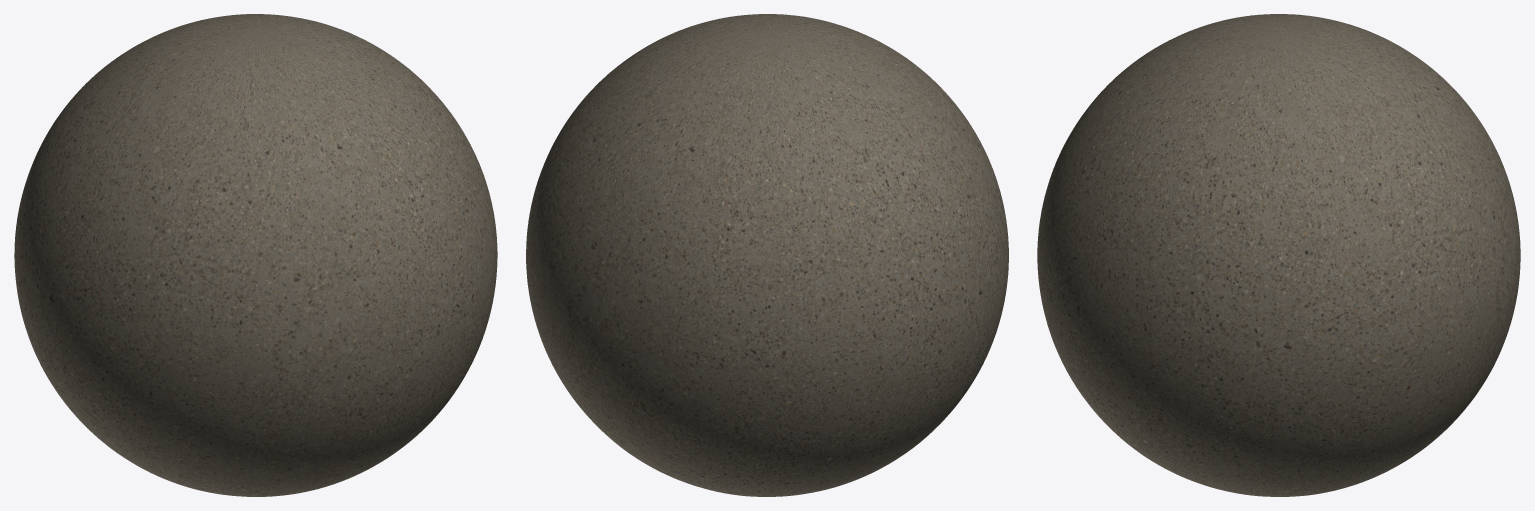
Rendered from granular_concrete_1k.gltf.
3 views of the same model, side by side, from view 1: azimuth 30°, elevation 25°; view 2: azimuth 150°, elevation 25°; view 3: azimuth 270°, elevation 25° (orthographic).
Visible parts, largest first — view 1: sphere_gltf; view 2: sphere_gltf; view 3: sphere_gltf.
Boxes of the visible parts, x1,y1,x2,y2 form: sphere_gltf: (14, 14, 497, 496); sphere_gltf: (526, 14, 1008, 496); sphere_gltf: (1037, 14, 1520, 496).
Size of the model in its own units: 2.4 by 2.4 by 2.4.
1 material, 1 textured.
